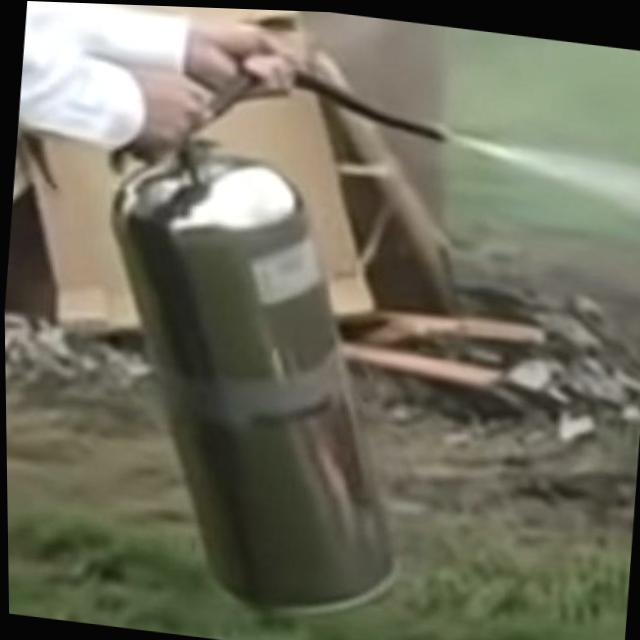FireExtinguisher: (56, 33, 466, 633)
